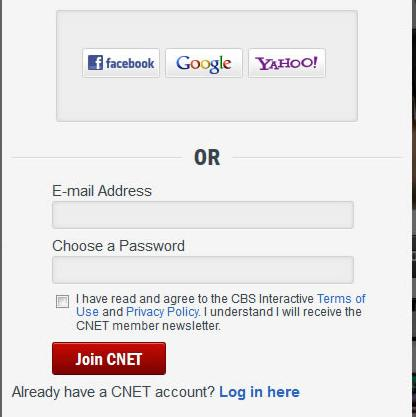button: (53, 342, 168, 376), (248, 48, 328, 78), (83, 47, 161, 77), (165, 48, 244, 77)
checkbox: (54, 293, 72, 310)
checkbox_with_label: (51, 291, 367, 317)
field: (50, 253, 355, 285), (49, 198, 355, 229)
field_with_label: (47, 183, 358, 231), (47, 239, 357, 287)
